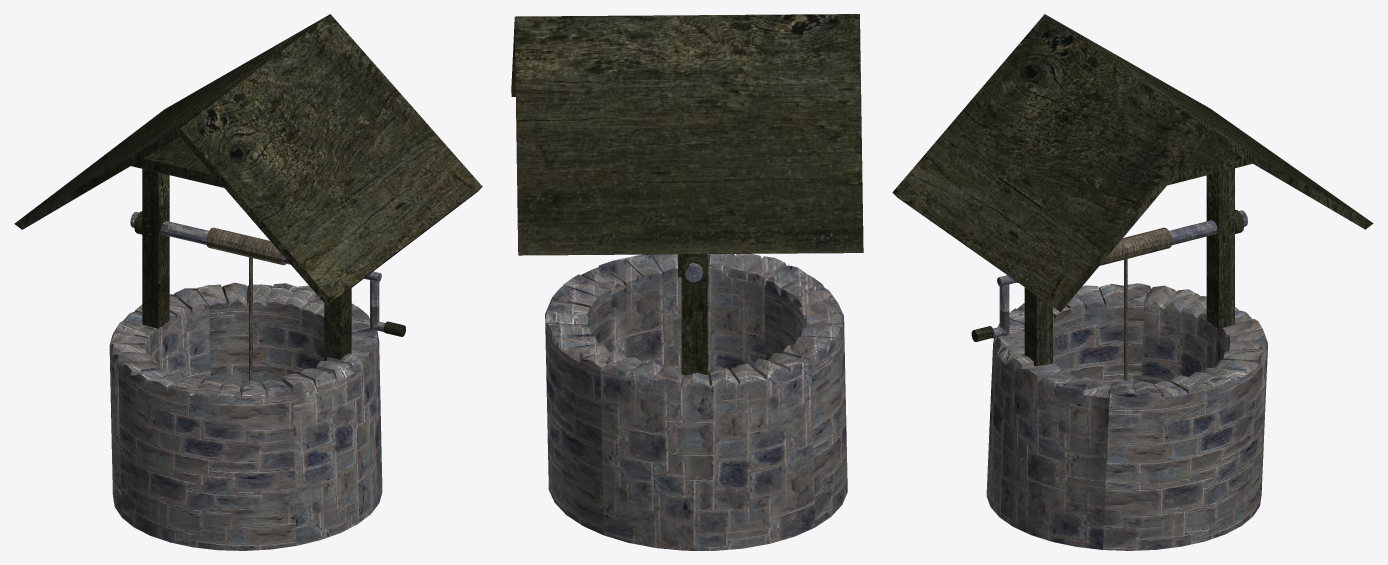
Rendered from well.FBX.
3 views of the same model, side by side, from view 1: azimuth 30°, elevation 25°; view 2: azimuth 150°, elevation 25°; view 3: azimuth 270°, elevation 25° (orthographic). The views are drawn at different scales.
Visible parts, largest first — view 1: Model_0, Model_4, Model_3, Model_2, Model_5, Model_1, Model_16, Model_18; view 2: Model_3, Model_0, Model_2; view 3: Model_0, Model_4, Model_3, Model_2, Model_5, Model_1, Model_16, Model_18.
Part boxes in pixels (<box>): Model_0: <box>109,282,382,550</box>; Model_4: <box>180,14,482,306</box>; Model_3: <box>14,15,328,229</box>; Model_2: <box>142,169,169,328</box>; Model_5: <box>131,137,379,206</box>; Model_1: <box>324,288,351,361</box>; Model_16: <box>206,227,286,265</box>; Model_18: <box>160,221,208,244</box>; Model_3: <box>514,14,863,255</box>; Model_0: <box>545,254,847,550</box>; Model_2: <box>681,254,707,374</box>; Model_0: <box>986,283,1267,550</box>; Model_4: <box>892,14,1207,312</box>; Model_3: <box>1047,15,1373,229</box>; Model_2: <box>1206,168,1234,328</box>; Model_5: <box>998,137,1252,208</box>; Model_1: <box>1024,287,1052,366</box>; Model_16: <box>1100,227,1172,265</box>; Model_18: <box>1169,220,1217,244</box>.
Size of what is drawn, in the model's own units: 497 by 513 by 518.
